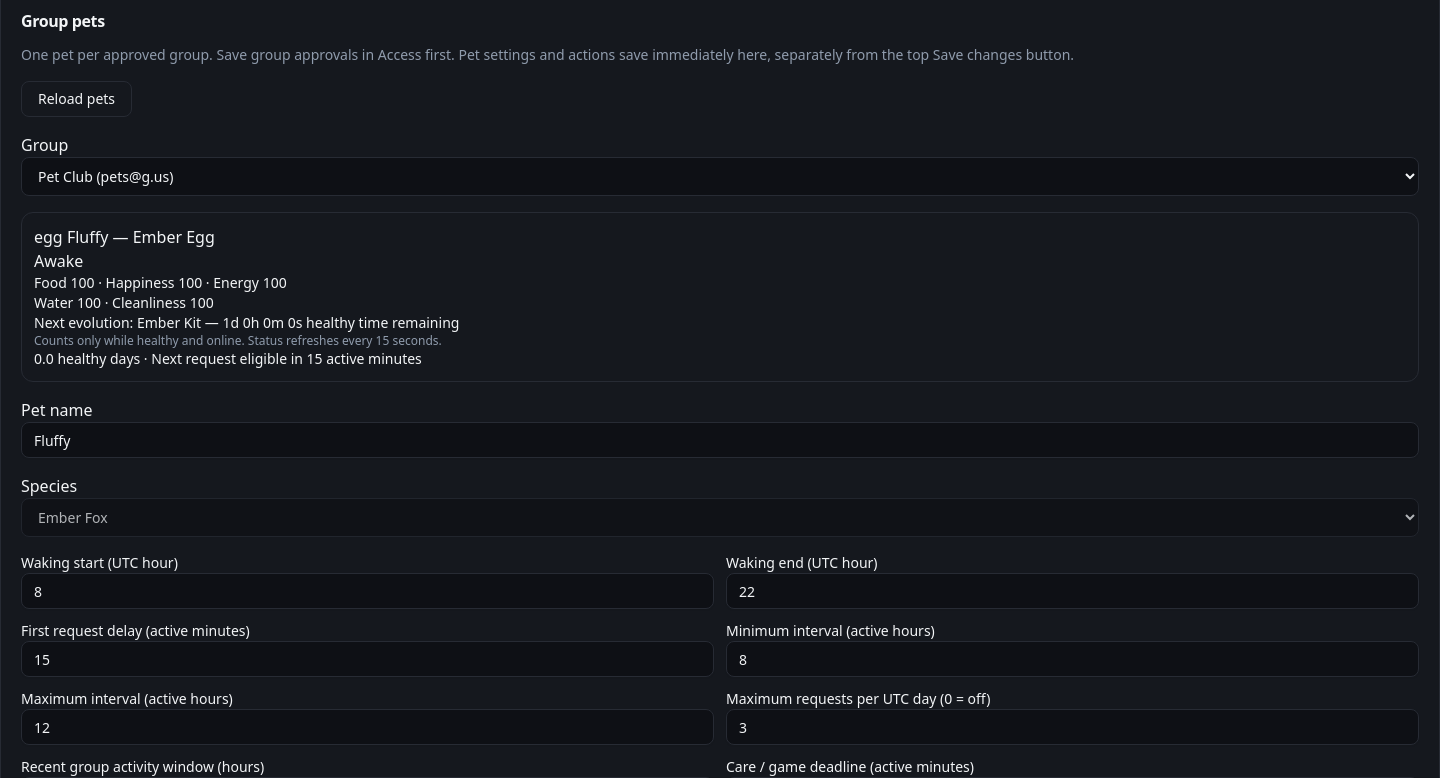
group pet editor › confirms evolution, updates live form and preserves unsaved settings
Replace the text in the field labelled "Pet name" with "Unsaved name" at [720, 440], box [21,422,1419,458]
(page scrolled)
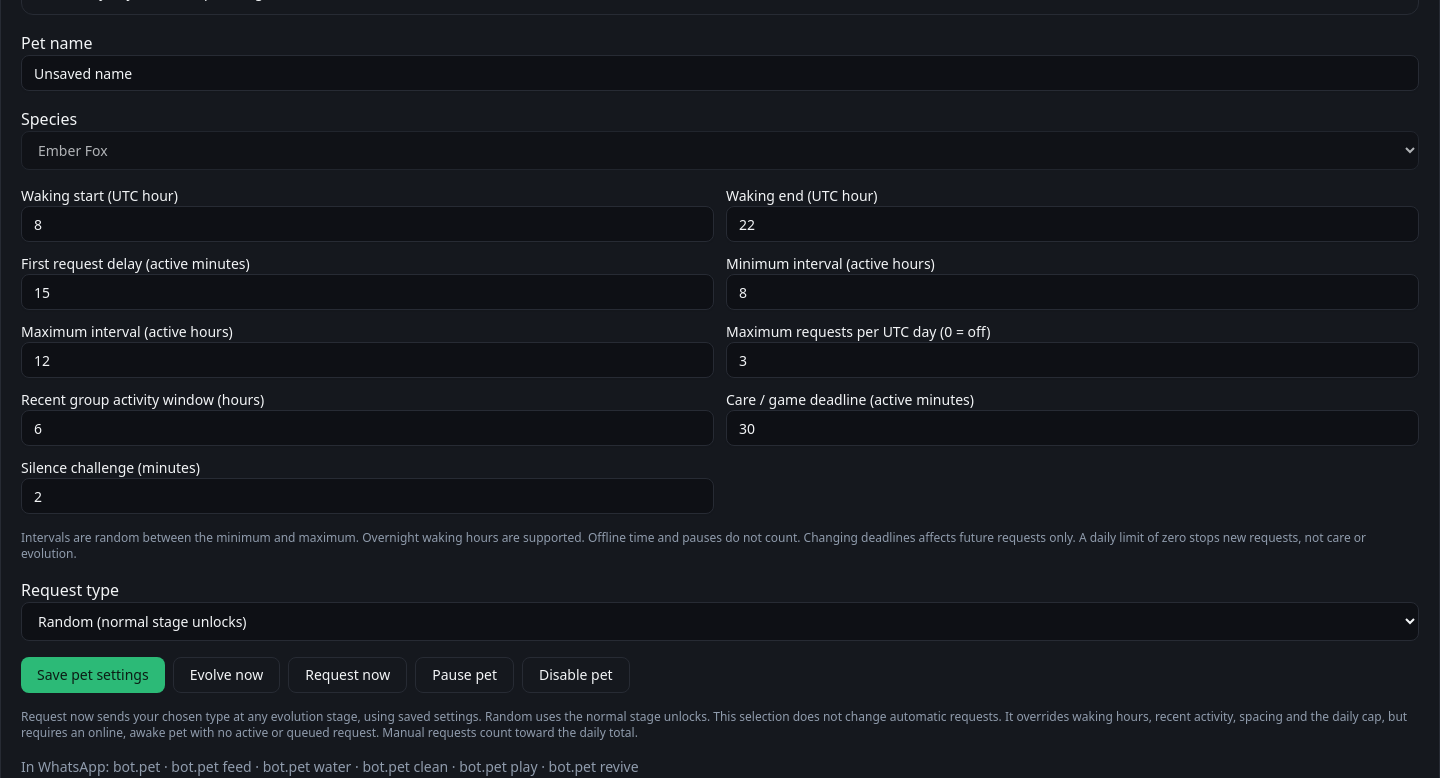
Click the button "Evolve now" at [226, 675], box [173,657,280,693]
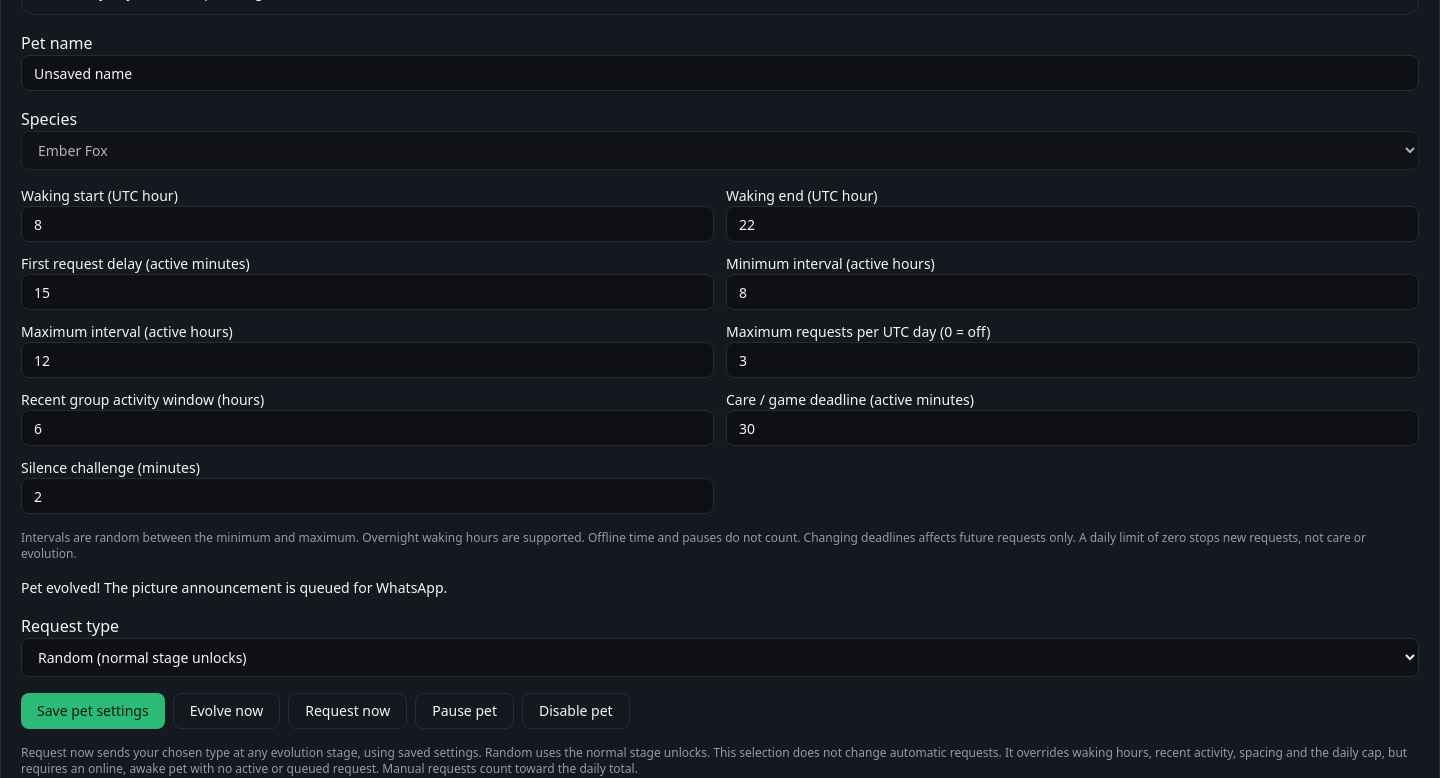
Result: the message shows "Pet evolved" at [21,578,447,597]
